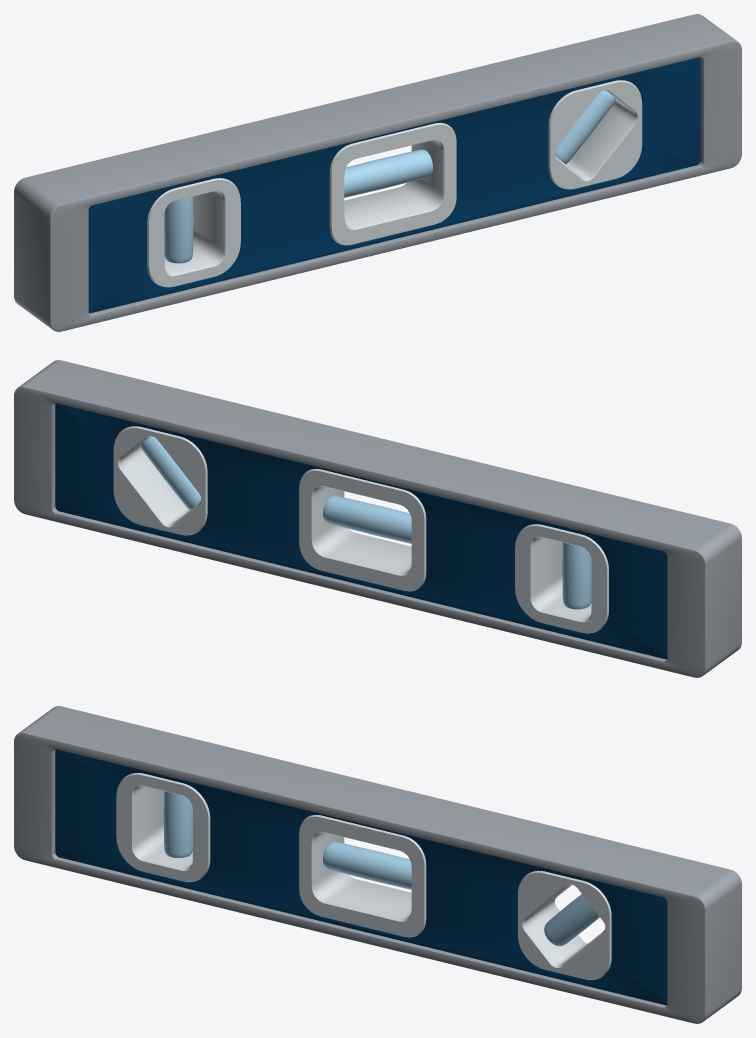
3 renders of one model, top to bottom at view 1: azimuth 30°, elevation 25°; view 2: azimuth 150°, elevation 25°; view 3: azimuth 330°, elevation 25°, orthographic.
Visible parts, largest first — view 1: part_015_Main_aluminum_frame, part_016_Main_aluminum_frame, part_010_Longitudinal_vial_surround, part_018_Angled_vial_surround, part_001_Plumb_vial_surround, part_009_Longitudinal_vial_wall, part_000_Plumb_vial_wall, part_017_Angled_vial_wall; view 2: part_015_Main_aluminum_frame, part_016_Main_aluminum_frame, part_010_Longitudinal_vial_surround, part_018_Angled_vial_surround, part_001_Plumb_vial_surround, part_009_Longitudinal_vial_wall, part_000_Plumb_vial_wall, part_017_Angled_vial_wall; view 3: part_015_Main_aluminum_frame, part_016_Main_aluminum_frame, part_010_Longitudinal_vial_surround, part_001_Plumb_vial_surround, part_018_Angled_vial_surround, part_009_Longitudinal_vial_wall, part_000_Plumb_vial_wall, part_017_Angled_vial_wall.
Part boxes in pixels (x1=…): part_015_Main_aluminum_frame: x1=14, y1=14, x2=741, y2=331; part_016_Main_aluminum_frame: x1=88, y1=57, x2=700, y2=313; part_010_Longitudinal_vial_surround: x1=329, y1=123, x2=456, y2=245; part_018_Angled_vial_surround: x1=548, y1=80, x2=642, y2=189; part_001_Plumb_vial_surround: x1=147, y1=178, x2=240, y2=287; part_009_Longitudinal_vial_wall: x1=344, y1=149, x2=432, y2=197; part_000_Plumb_vial_wall: x1=164, y1=196, x2=193, y2=263; part_017_Angled_vial_wall: x1=555, y1=90, x2=615, y2=163; part_015_Main_aluminum_frame: x1=14, y1=360, x2=741, y2=677; part_016_Main_aluminum_frame: x1=55, y1=403, x2=667, y2=659; part_010_Longitudinal_vial_surround: x1=299, y1=469, x2=426, y2=591; part_018_Angled_vial_surround: x1=113, y1=426, x2=207, y2=535; part_001_Plumb_vial_surround: x1=515, y1=524, x2=608, y2=633; part_009_Longitudinal_vial_wall: x1=323, y1=495, x2=411, y2=543; part_000_Plumb_vial_wall: x1=562, y1=542, x2=591, y2=609; part_017_Angled_vial_wall: x1=140, y1=436, x2=200, y2=509; part_015_Main_aluminum_frame: x1=14, y1=706, x2=741, y2=1023; part_016_Main_aluminum_frame: x1=55, y1=749, x2=667, y2=1005; part_010_Longitudinal_vial_surround: x1=299, y1=815, x2=426, y2=937; part_001_Plumb_vial_surround: x1=116, y1=773, x2=210, y2=881; part_018_Angled_vial_surround: x1=518, y1=870, x2=611, y2=979; part_009_Longitudinal_vial_wall: x1=323, y1=841, x2=411, y2=889; part_000_Plumb_vial_wall: x1=163, y1=791, x2=192, y2=857; part_017_Angled_vial_wall: x1=544, y1=894, x2=599, y2=946.
Bounding box in the file's own units: 0.25 × 0.044 × 0.023.
